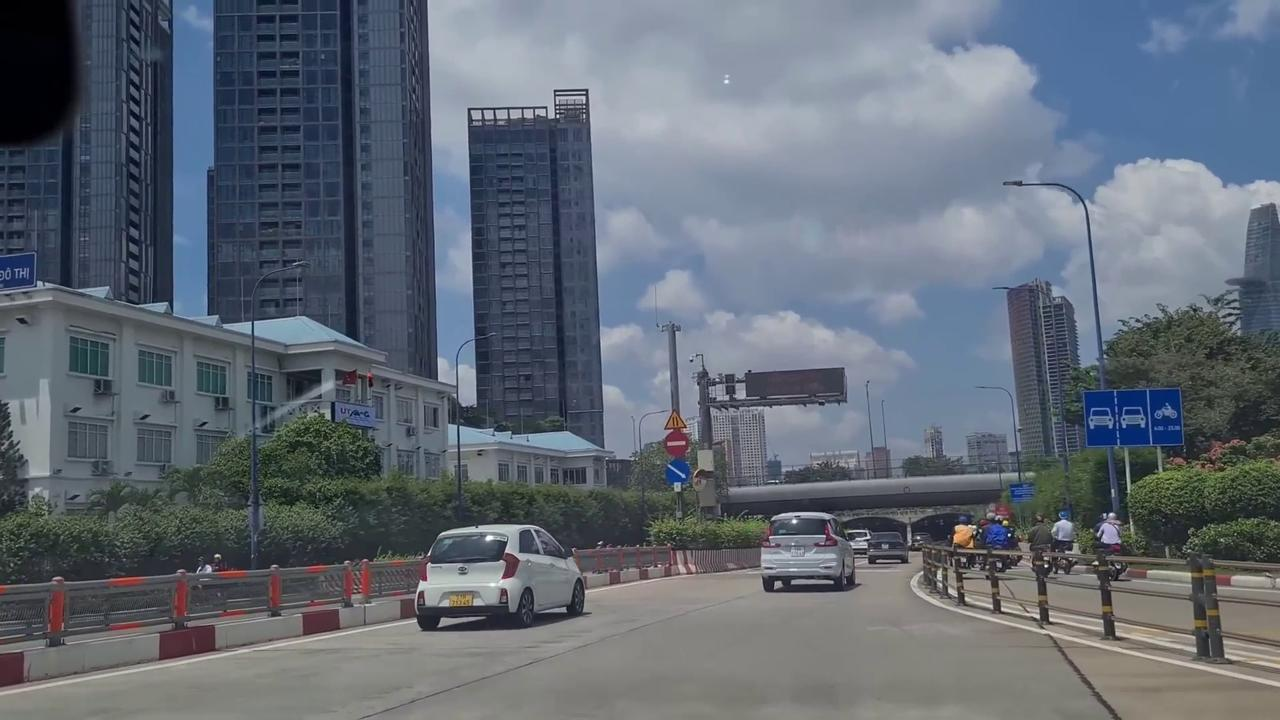Cấm đi ngược chiều: (664, 429, 691, 458)
Hướng phải đi vòng sang phải: (664, 459, 691, 486)
Làn đường cho từng xe: (1082, 389, 1186, 446)
Đuờng hẹp: (664, 410, 688, 428)
